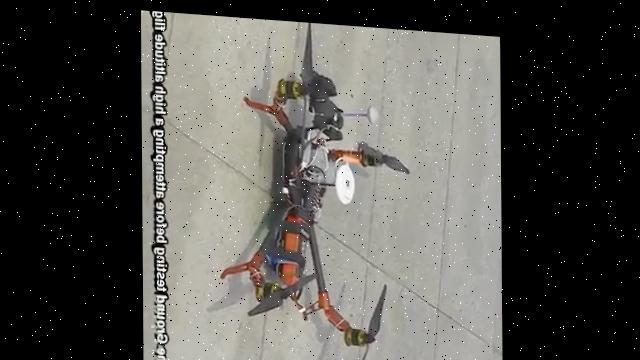drone: (213, 12, 413, 360)
